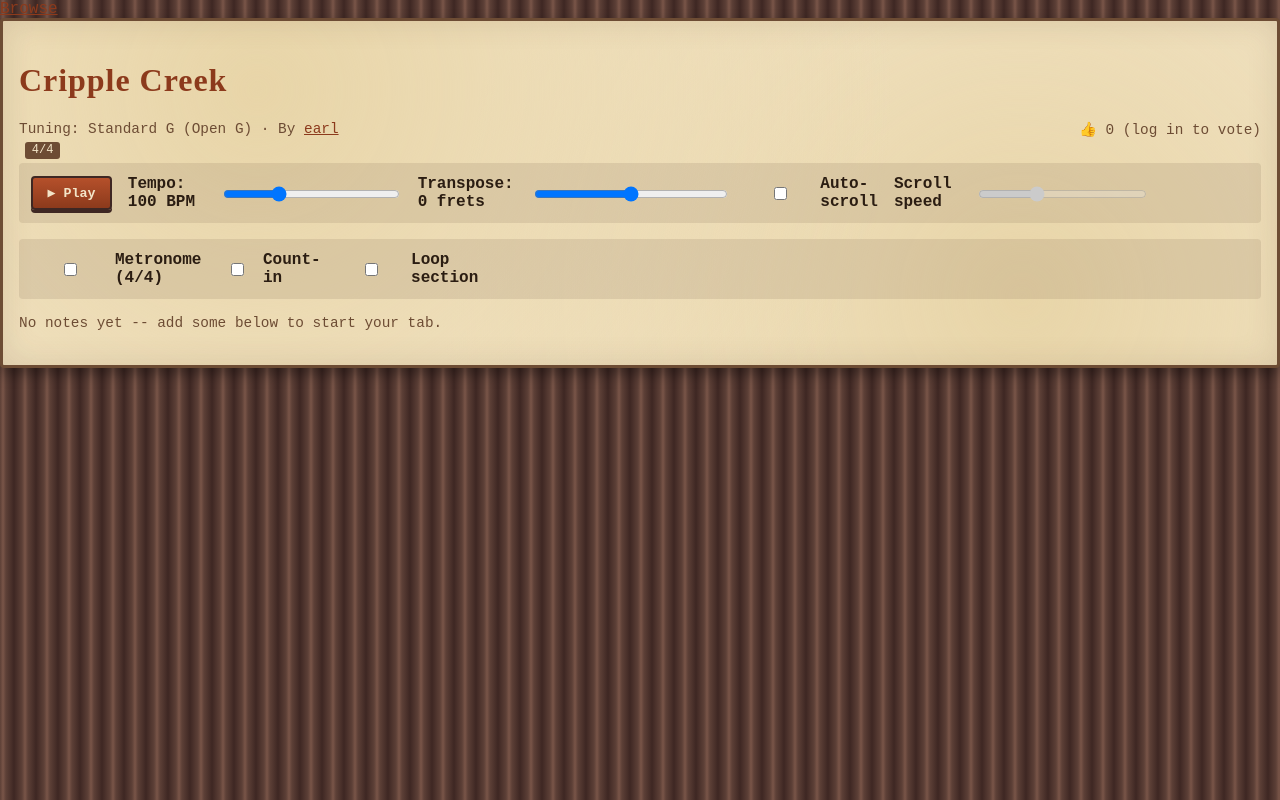
it: TabViewPage auto-scroll › stops auto-scrolling when the user leaves the page mid-playback
Click the checkbox labelled "Auto-scroll" at (780, 194), box [750,187,811,200]
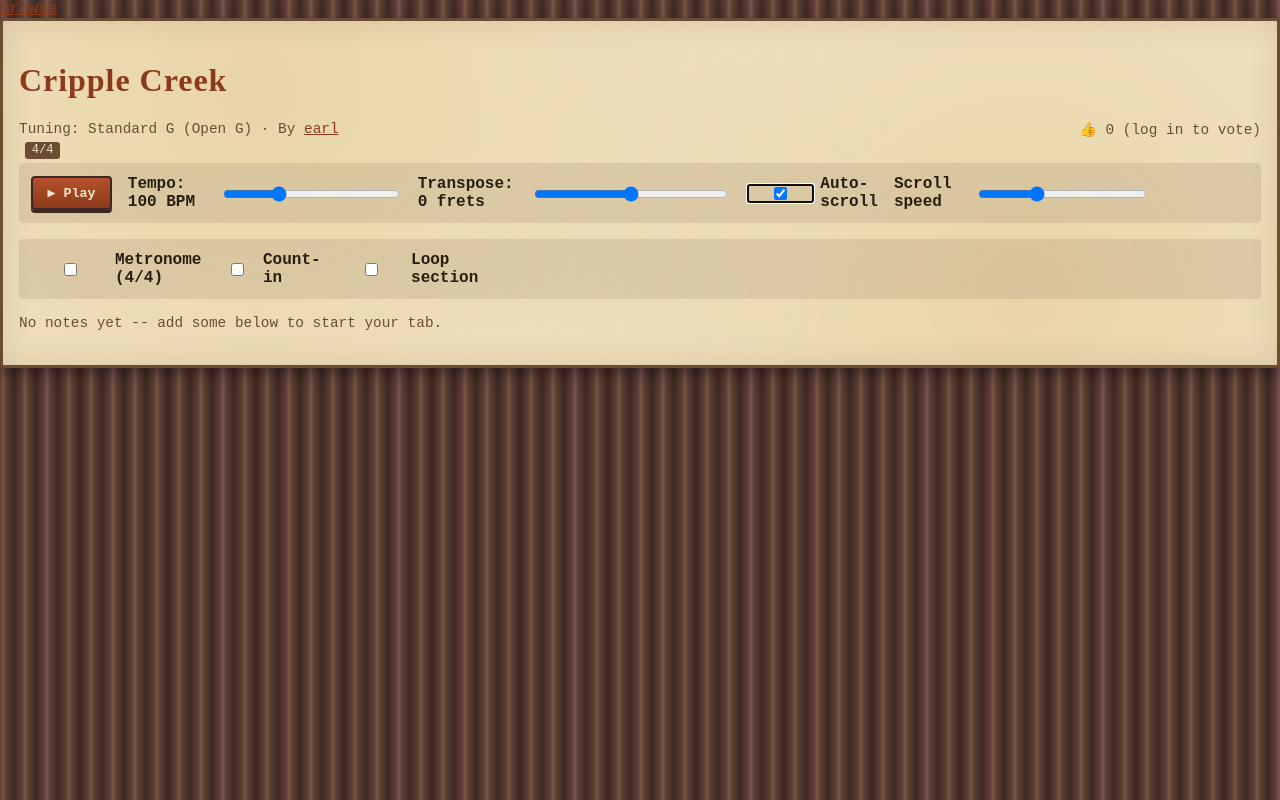
Click the button "▶ Play" at (71, 193), box [31,176,112,210]
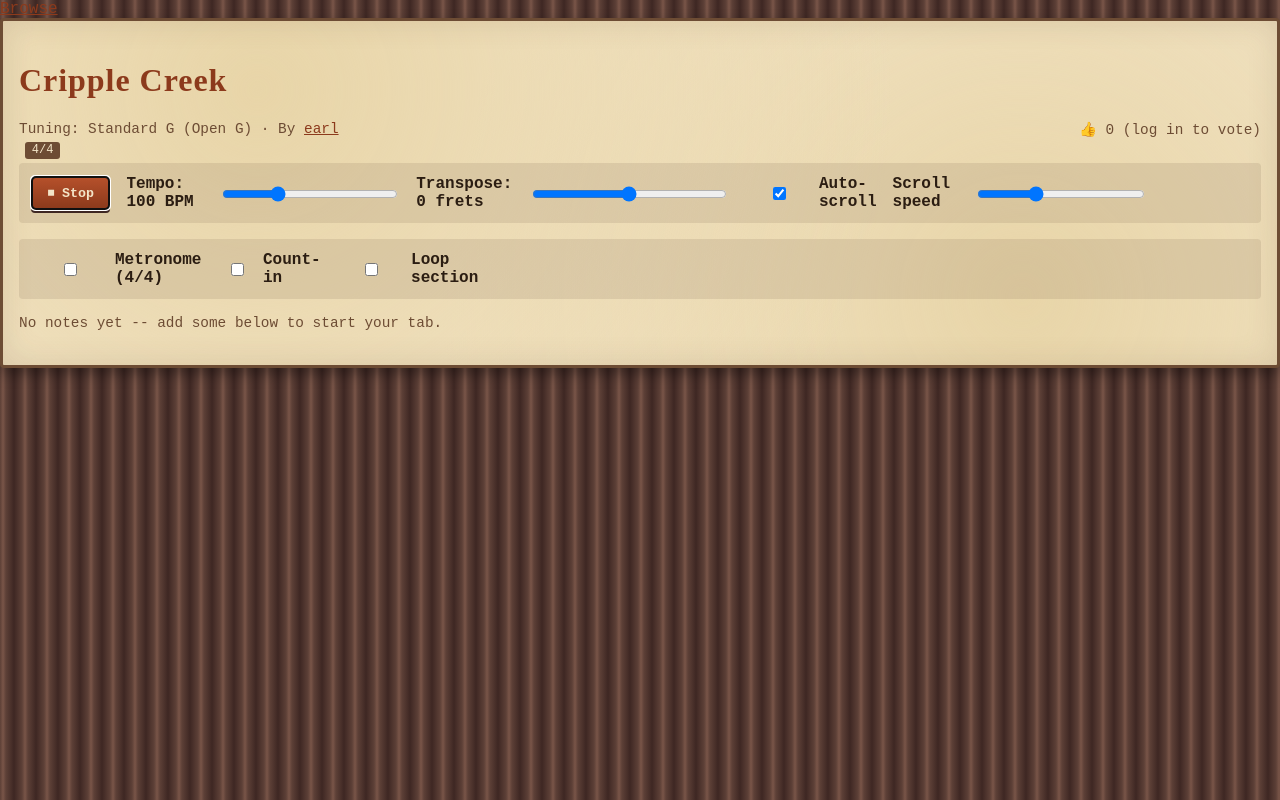
Click the link "Browse" at (29, 9), box [0,0,58,18]
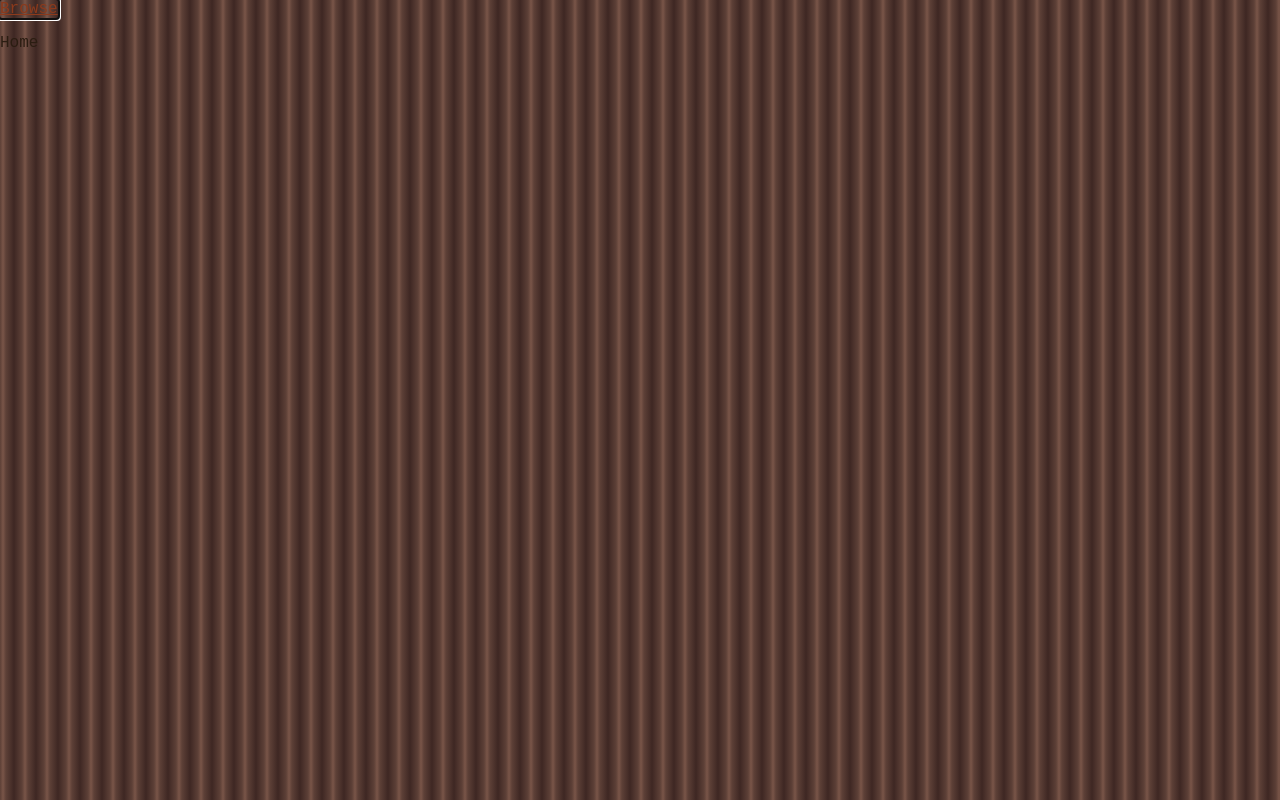
Expected: the text "Home" is shown, [0,34,38,52]
